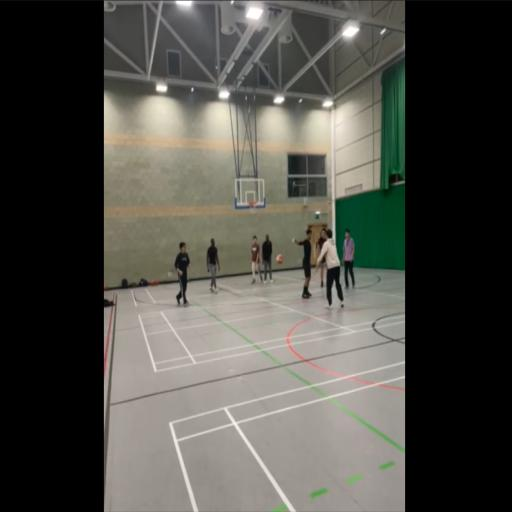hoops: (245, 196, 263, 218)
